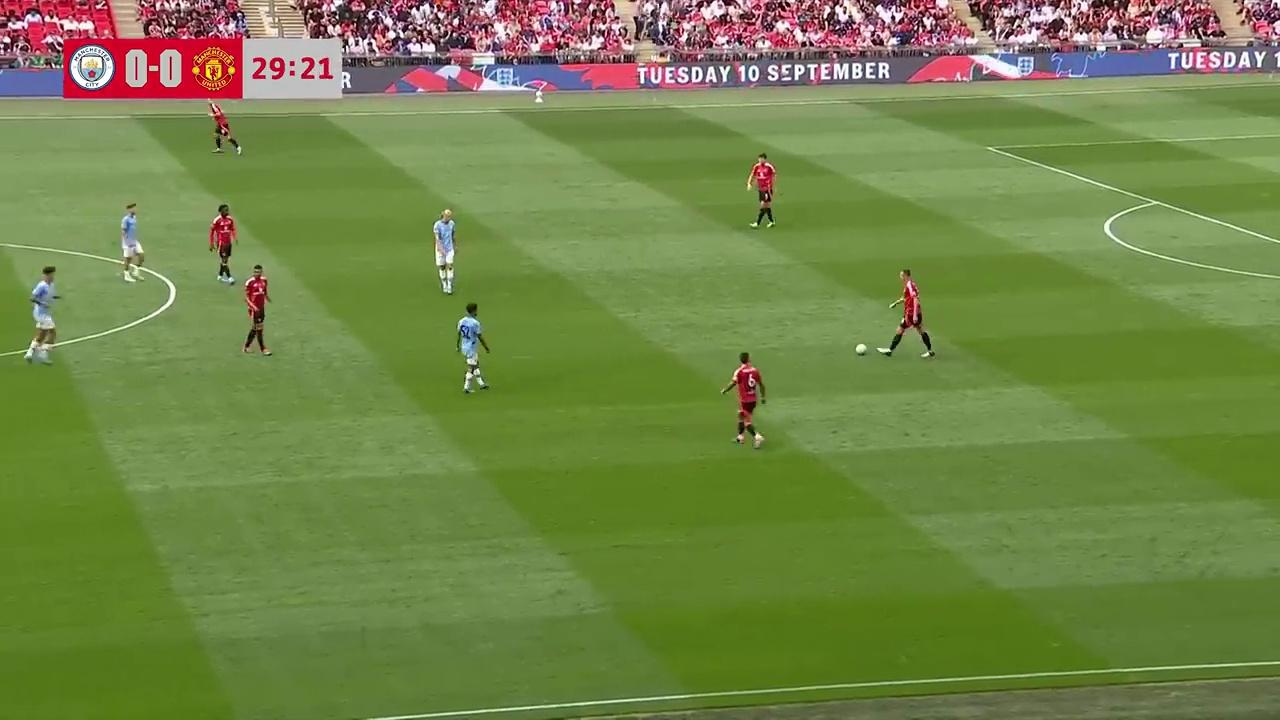ball: (853, 340, 867, 355)
player: (719, 351, 766, 447), (886, 268, 936, 358), (23, 266, 59, 364), (456, 302, 490, 394), (240, 264, 271, 356), (207, 203, 238, 283), (746, 152, 776, 226), (432, 208, 457, 294), (119, 203, 145, 283), (208, 103, 242, 155)
